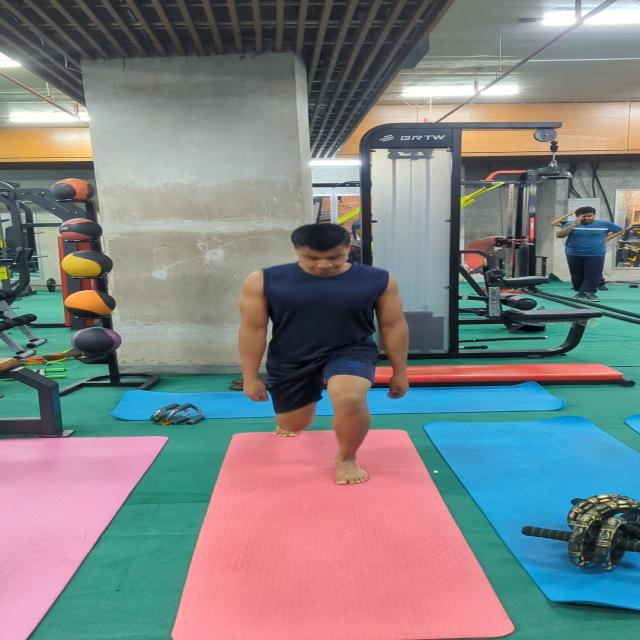Normal_Lunges: (230, 220, 416, 487)
